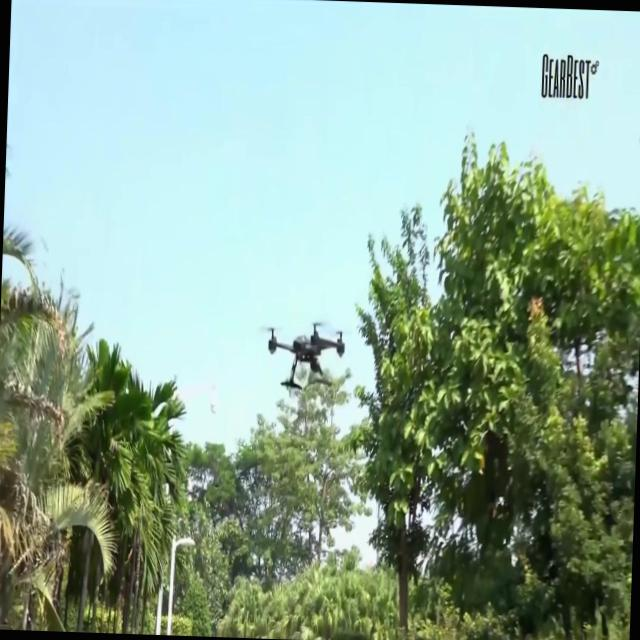drone: (264, 312, 348, 392)
